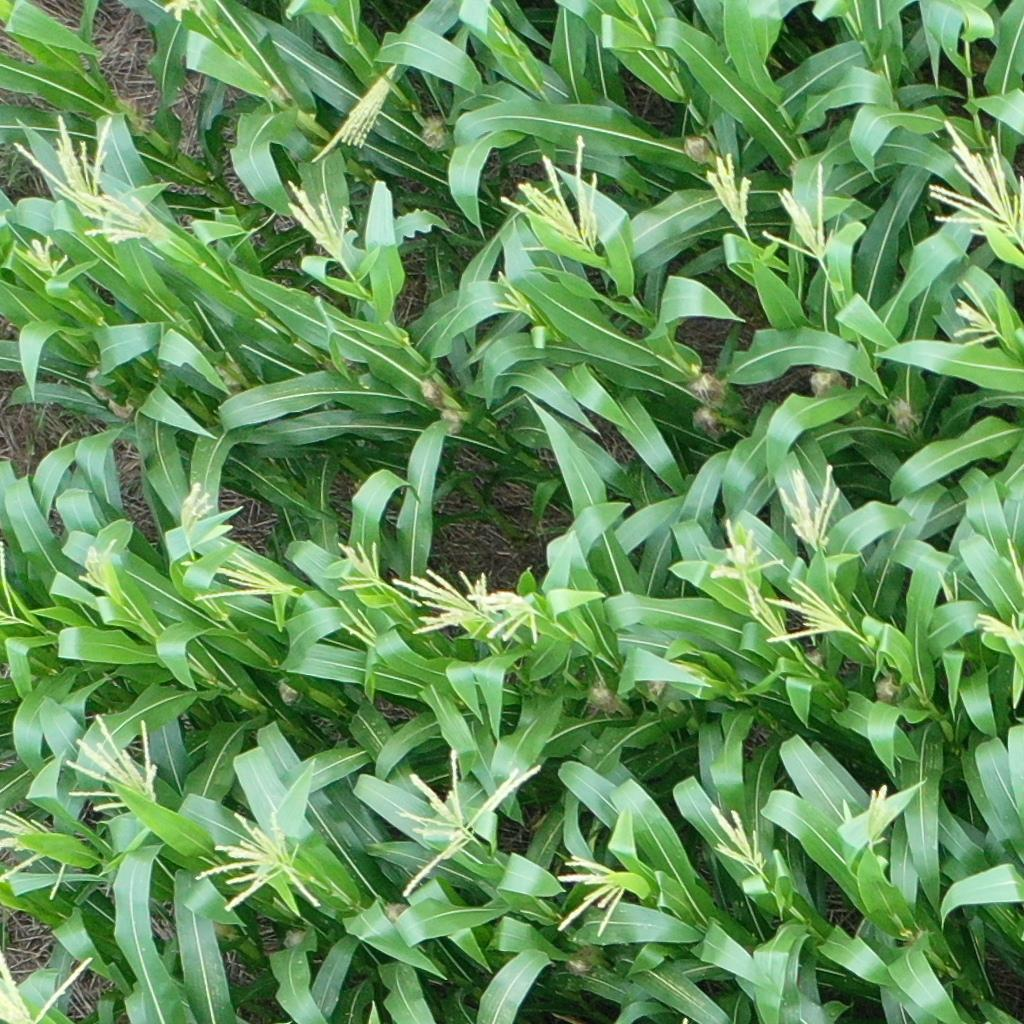Tassel: (396, 747, 542, 902), (192, 810, 330, 919), (503, 129, 605, 260), (924, 114, 1020, 242), (10, 105, 116, 210), (57, 712, 166, 813), (307, 61, 408, 164), (172, 539, 299, 613), (758, 571, 858, 652), (554, 850, 636, 943), (761, 161, 832, 268), (1, 947, 97, 1024), (392, 564, 483, 641), (1, 804, 78, 895), (771, 456, 841, 554), (279, 174, 353, 259), (702, 798, 774, 875), (708, 513, 779, 588), (73, 193, 157, 251), (946, 278, 1004, 357), (705, 143, 756, 232), (477, 587, 543, 646), (72, 535, 129, 595), (174, 479, 226, 537), (859, 781, 897, 857), (335, 535, 383, 594), (1, 533, 29, 632), (16, 237, 77, 282), (487, 272, 538, 324), (973, 605, 1024, 655), (162, 1, 198, 25)
